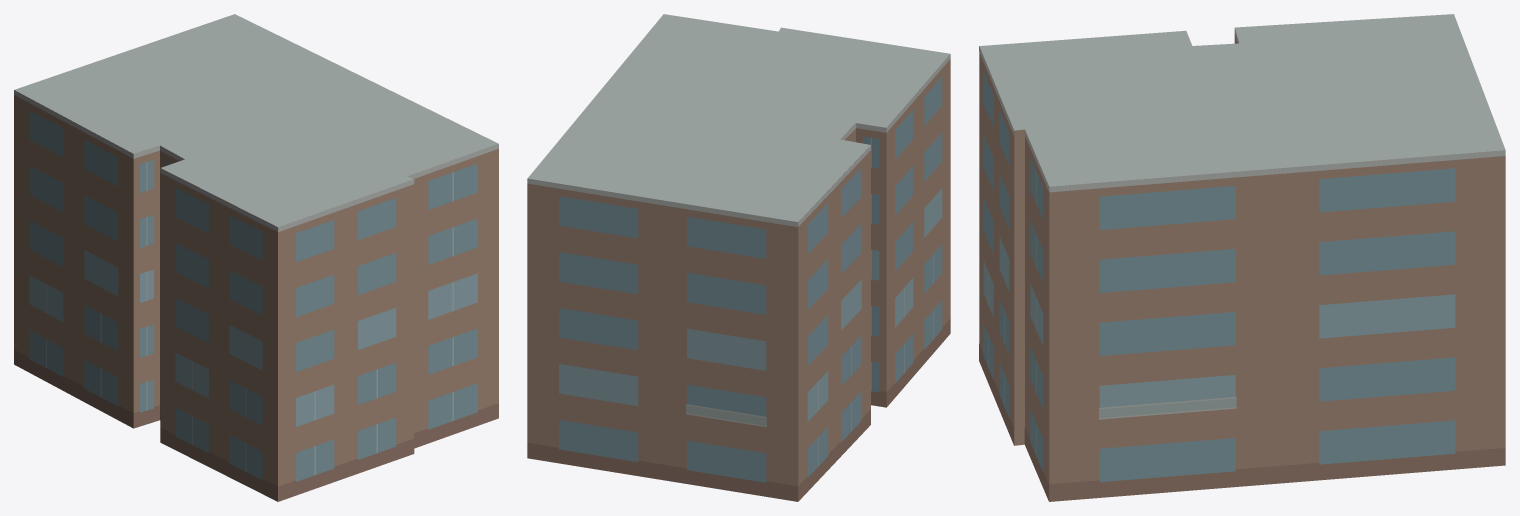
Rendered from survey-upis-32767527.glb.
The picture shows the model from 3 angles, left to right: view 1: azimuth 30°, elevation 25°; view 2: azimuth 150°, elevation 25°; view 3: azimuth 270°, elevation 25°; orthographic projection. The views are drawn at different scales.
Visible parts, largest first — view 1: survey-upis-32767527.tmp; view 2: survey-upis-32767527.tmp; view 3: survey-upis-32767527.tmp.
Part boxes in pixels (x1=…): survey-upis-32767527.tmp: x1=14, y1=14, x2=498, y2=501; survey-upis-32767527.tmp: x1=527, y1=14, x2=950, y2=501; survey-upis-32767527.tmp: x1=979, y1=14, x2=1505, y2=501.
Size of the model in its own units: 15.94 by 13.55 by 20.52.
